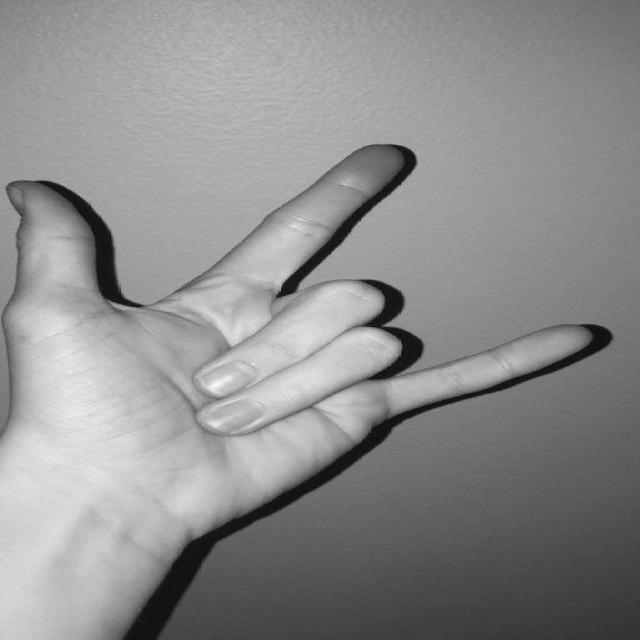i love you: (0, 133, 607, 538)
